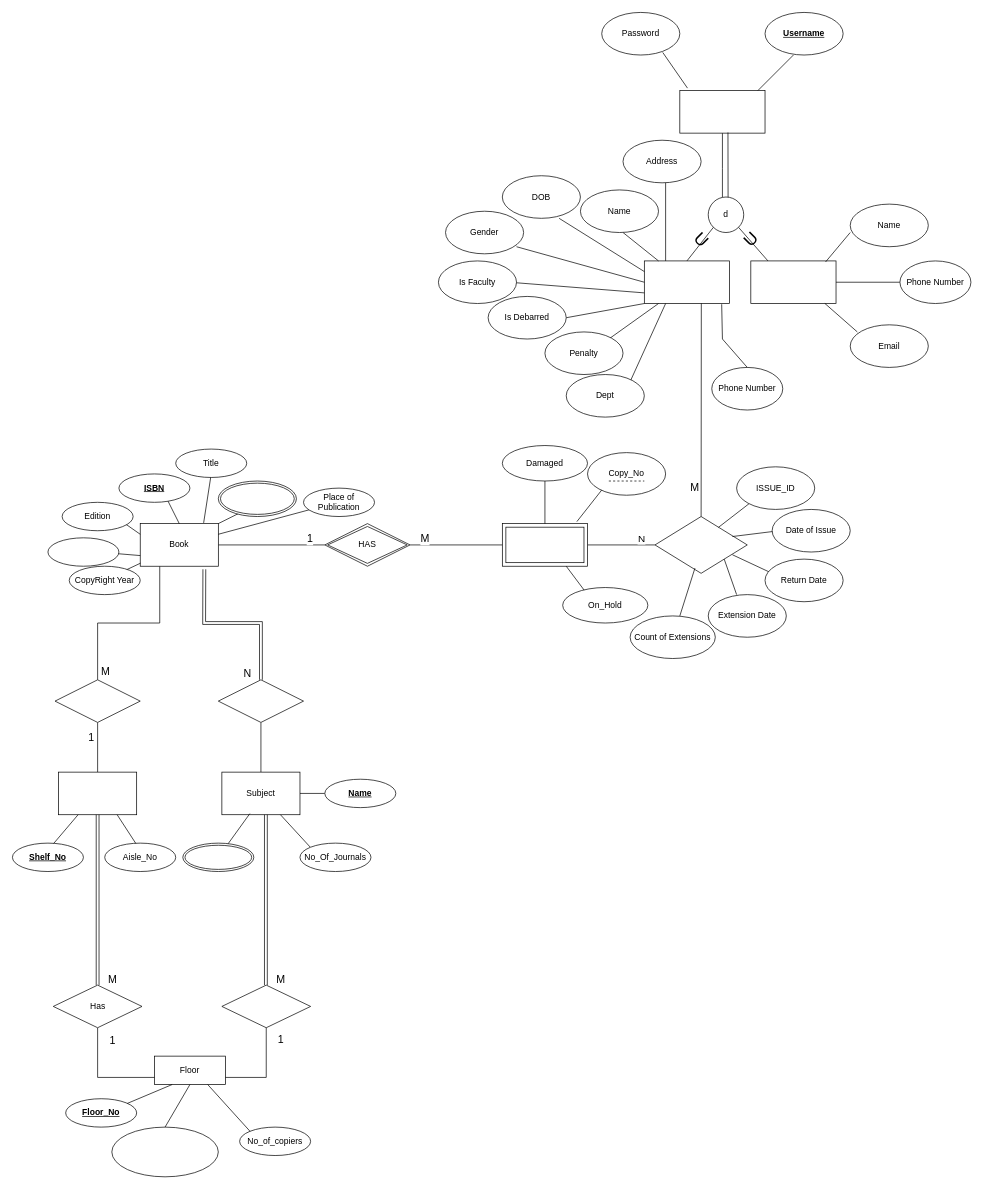
Some shapes in this 983 by 1189 pixel diagram are drawn without their labels. Each missing label, with the box of its shape:
Authors: (218, 480, 296, 517)
Belongs To: (218, 679, 304, 722)
Book_Copy: (502, 523, 588, 566)
Is On: (221, 984, 311, 1028)
Issues: (654, 516, 747, 573)
Keywords: (182, 842, 254, 872)
Located On: (54, 679, 140, 722)
No_of_Student_Assistants: (111, 1126, 218, 1177)
Publisher: (47, 537, 119, 566)
Shelf: (58, 771, 137, 815)
Staff: (750, 260, 836, 304)
Student/ Faculty: (644, 260, 730, 304)
User: (679, 90, 765, 133)
